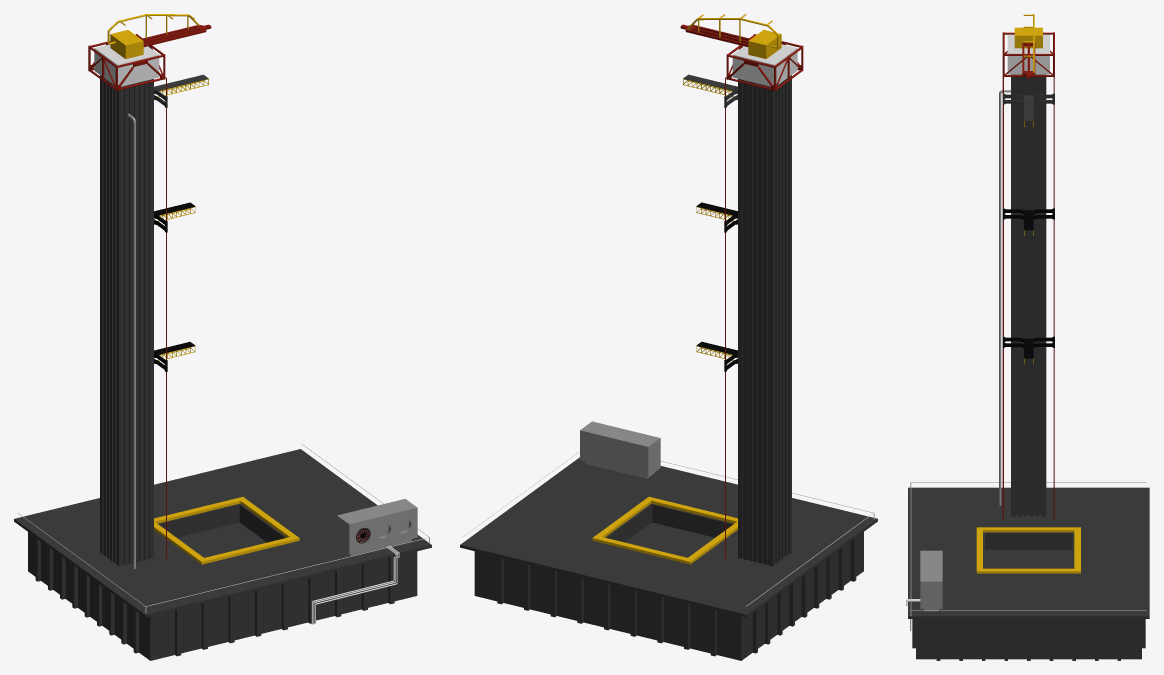
Rendered from rocket_laucher_pad.glb.
3 views of the same model, side by side, from view 1: azimuth 30°, elevation 25°; view 2: azimuth 150°, elevation 25°; view 3: azimuth 270°, elevation 25° (orthographic). The views are drawn at different scales.
Parts seen in each view (by area): view 1: Cube, Cube.010, Cube.012, Cube.011, Cube.013, Cylinder.016, Cylinder, Cube.001; view 2: Cube, Cube.010, Cube.012, Cube.011, Cube.013, Cylinder, Cube.001; view 3: Cube.010, Cube, Cube.012, Cube.013, Cylinder.001, Cube.011, Cylinder.016, Cylinder, Cube.005, Cylinder.013, Cube.003, Cube.009.
Part boxes in pixels (<box>): Cube: <box>94,30,159,566</box>; Cube.010: <box>14,449,431,617</box>; Cube.012: <box>28,506,417,660</box>; Cube.011: <box>337,499,417,555</box>; Cube.013: <box>154,497,299,564</box>; Cylinder.016: <box>127,113,135,569</box>; Cylinder: <box>88,34,165,91</box>; Cube.001: <box>141,24,211,47</box>; Cube: <box>732,30,797,566</box>; Cube.010: <box>460,457,877,617</box>; Cube.012: <box>474,506,863,660</box>; Cube.011: <box>580,421,660,478</box>; Cube.013: <box>592,496,737,564</box>; Cylinder: <box>726,34,803,91</box>; Cube.001: <box>680,24,750,46</box>; Cube.010: <box>908,487,1149,618</box>; Cube: <box>1007,27,1049,516</box>; Cube.012: <box>912,534,1145,660</box>; Cube.013: <box>976,527,1080,573</box>; Cylinder.001: <box>1002,75,1054,520</box>; Cube.011: <box>920,550,942,611</box>; Cylinder.016: <box>999,90,1010,505</box>; Cylinder: <box>1002,32,1054,77</box>; Cube.005: <box>1002,93,1054,121</box>; Cylinder.013: <box>911,482,1146,610</box>; Cube.003: <box>1002,336,1054,358</box>; Cube.009: <box>1002,208,1054,230</box>.
Bounding box in the file's own units: 12 × 23.43 × 9.58.
